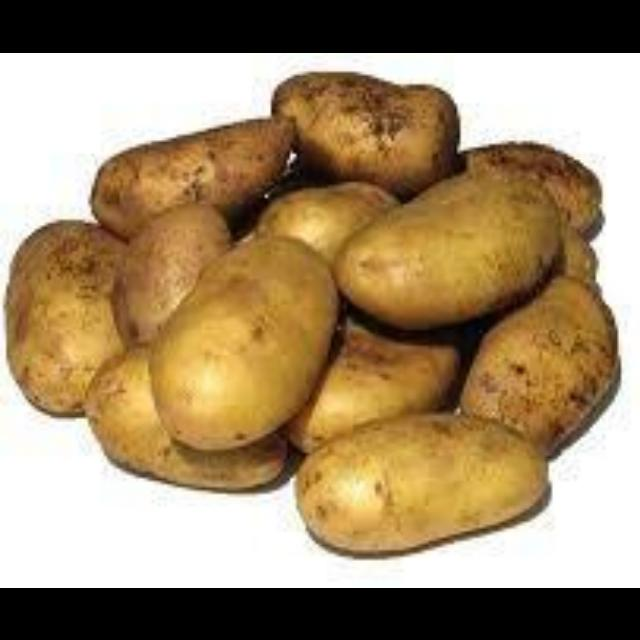Potato: (144, 225, 342, 450), (294, 416, 558, 562), (340, 185, 564, 332)
